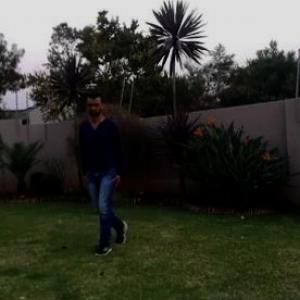follow: (83, 89, 125, 237)
